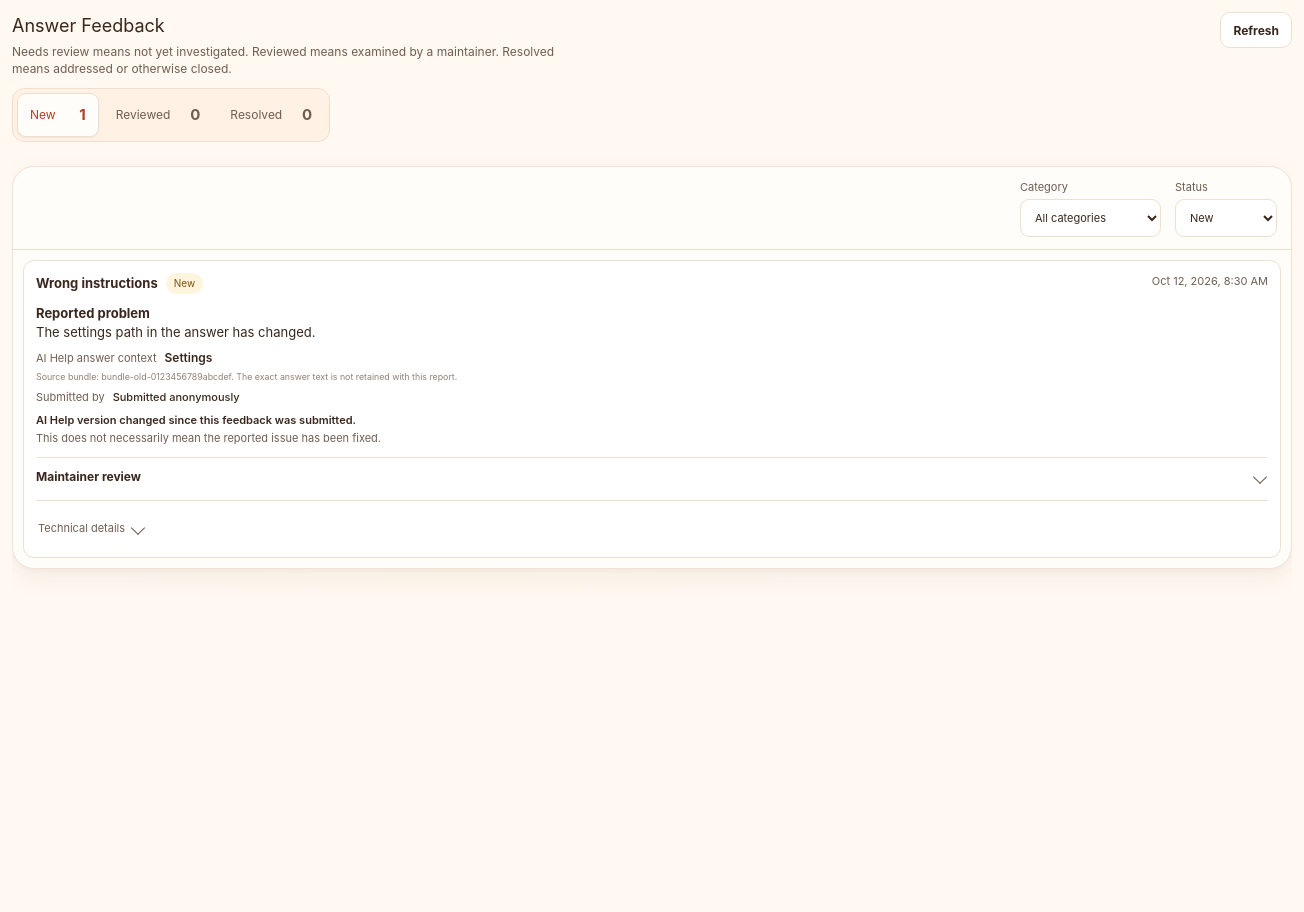
Scenario: AnswerFeedbackWorkspace › updates New feedback to Reviewed, shows success, and refreshes counts
Click the heading "Maintainer review" at (88, 476), box [36,469,141,484]
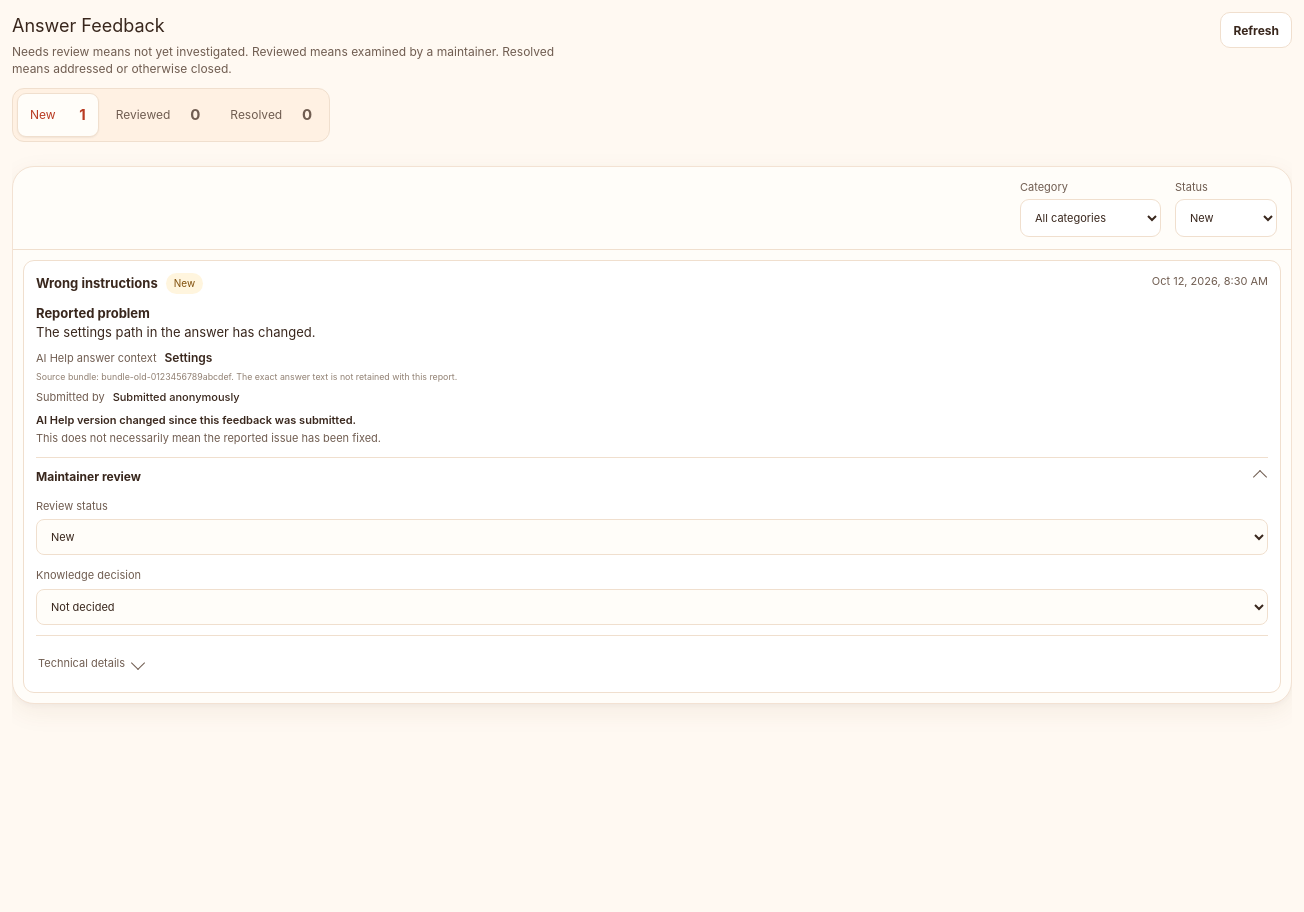
Select "Reviewed" in the dropdown labelled "Review status" at (652, 537), box [36,519,1268,555]
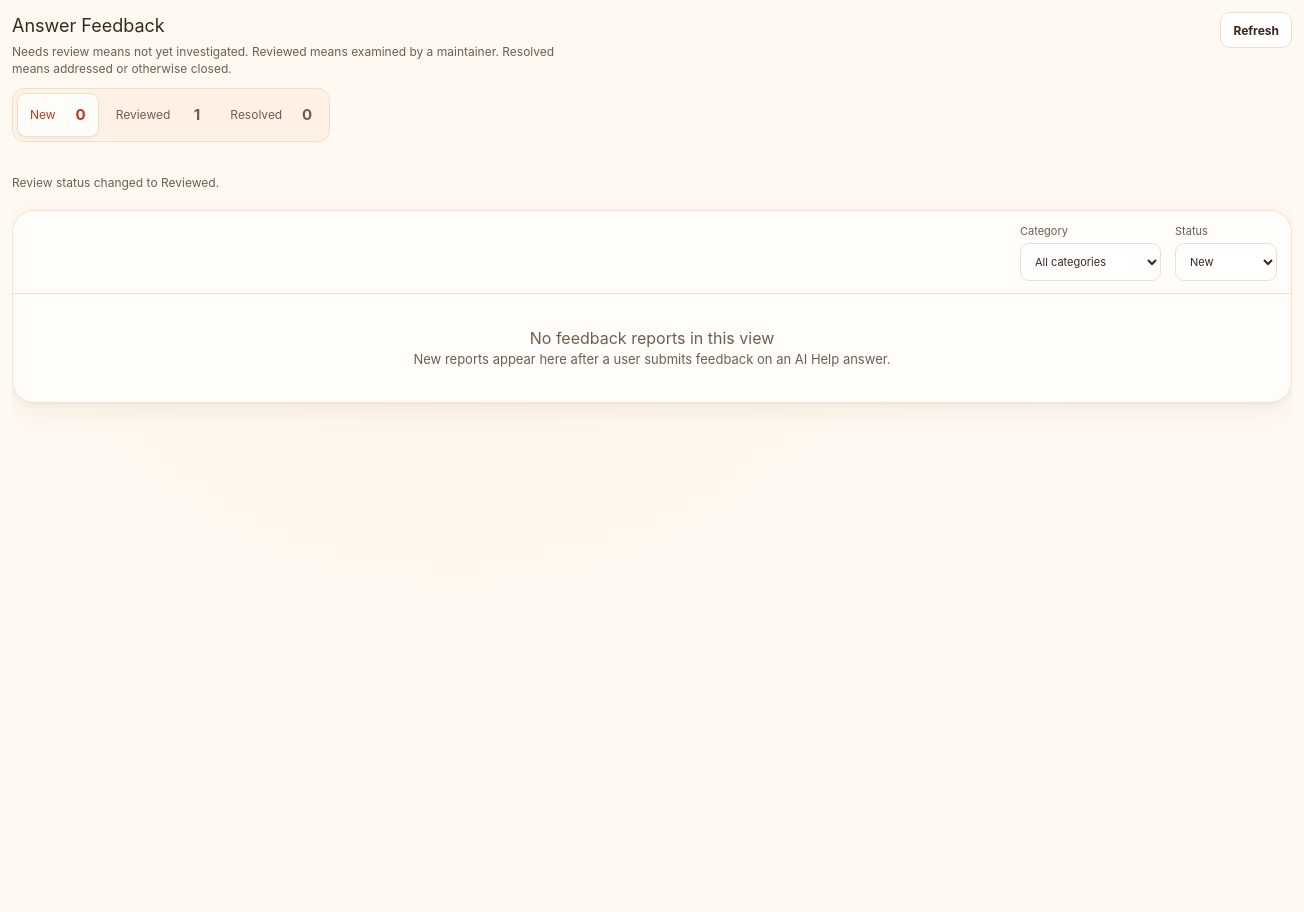
Now the button "New 0" is shown, box [17,93,99,137]
Now the message shows "Review status changed to Reviewed", box [12,175,219,190]
